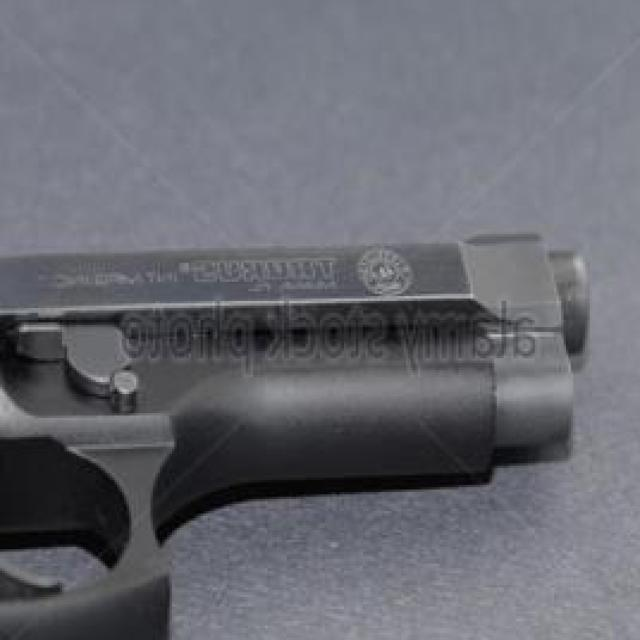pistol: (0, 219, 590, 640)
